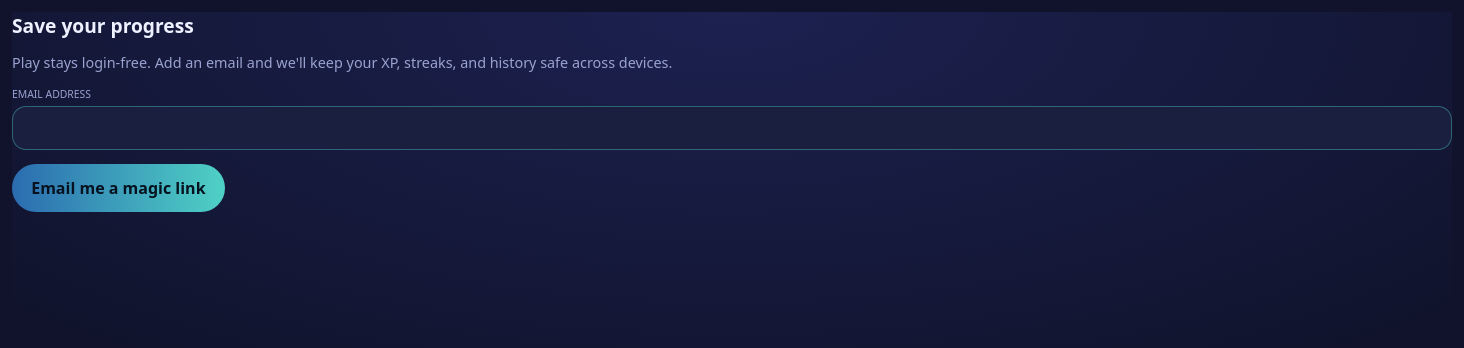
ClaimPanel › celebrates a merge when the email already had an account
Type "a@b.com" into the field labelled "Email address". click: (732, 128)
box: [12,106,1452,150]
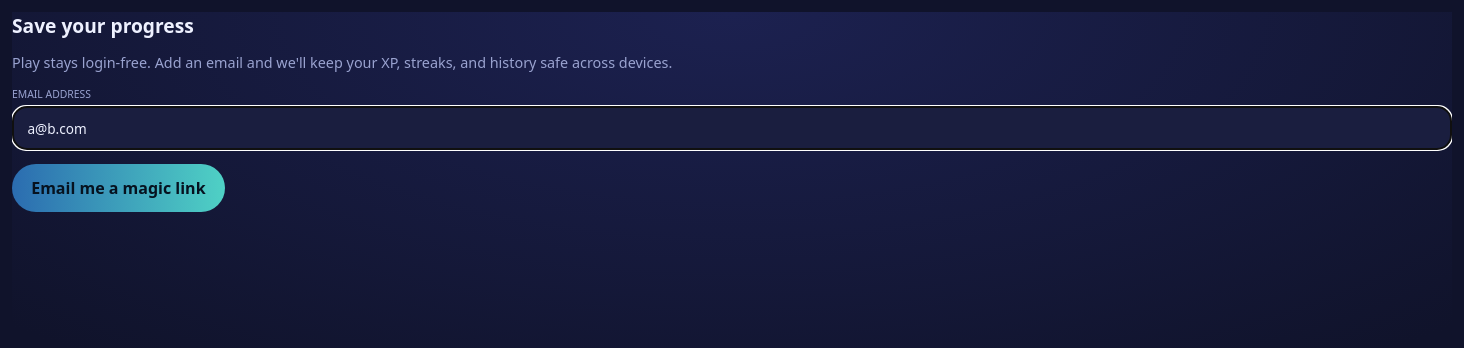
Click the button "Email me a magic link". click: (118, 188)
box: [12,164,225,212]
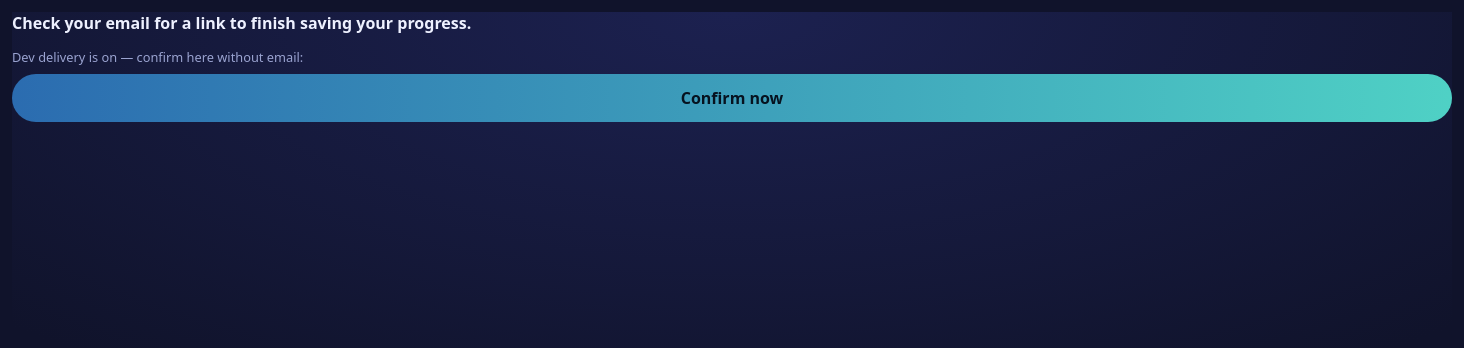
Click the button "Confirm now". click: (732, 98)
box: [12,74,1452,122]
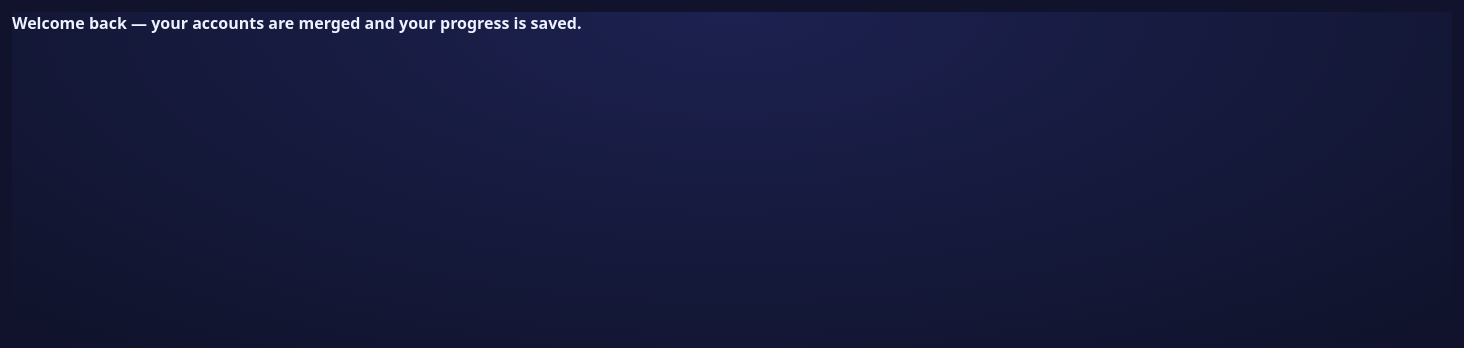
Result: the text "Welcome back — your accounts are merged and your progress is saved." is shown at [12,12,582,34]
